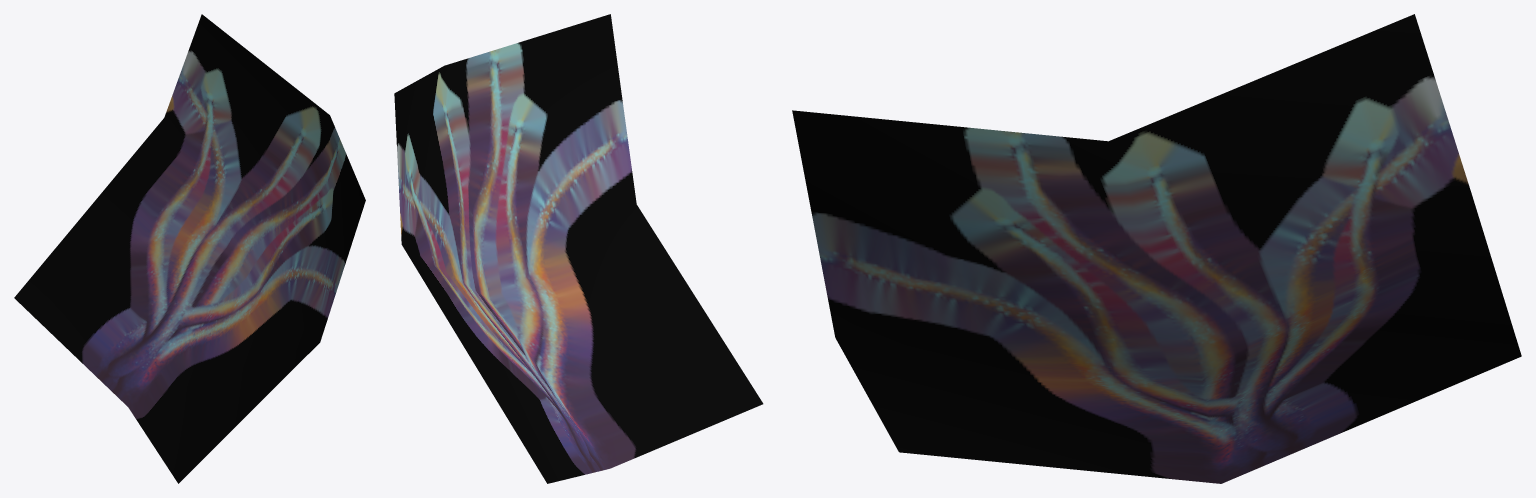
The model's file is anoneme single.fbx.
3 views of the same model, side by side, from view 1: azimuth 30°, elevation 25°; view 2: azimuth 150°, elevation 25°; view 3: azimuth 270°, elevation 25° (orthographic). The views are drawn at different scales.
Visible parts, largest first — view 1: anoneme Single_Blue; view 2: anoneme Single_Blue; view 3: anoneme Single_Blue.
Boxes of the visible parts, x1=… form: anoneme Single_Blue: x1=14, y1=14, x2=365, y2=483; anoneme Single_Blue: x1=394, y1=14, x2=763, y2=483; anoneme Single_Blue: x1=792, y1=14, x2=1521, y2=483.
Bounding box in the file's own units: 41.39 × 61.2 × 69.21.
